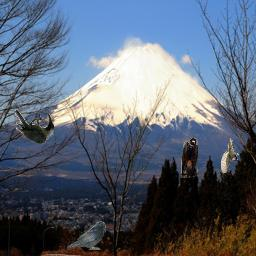Crow: (15, 110, 54, 144), (67, 221, 106, 250)
Sparrow: (221, 137, 239, 173)
Swallow: (181, 138, 198, 178)
